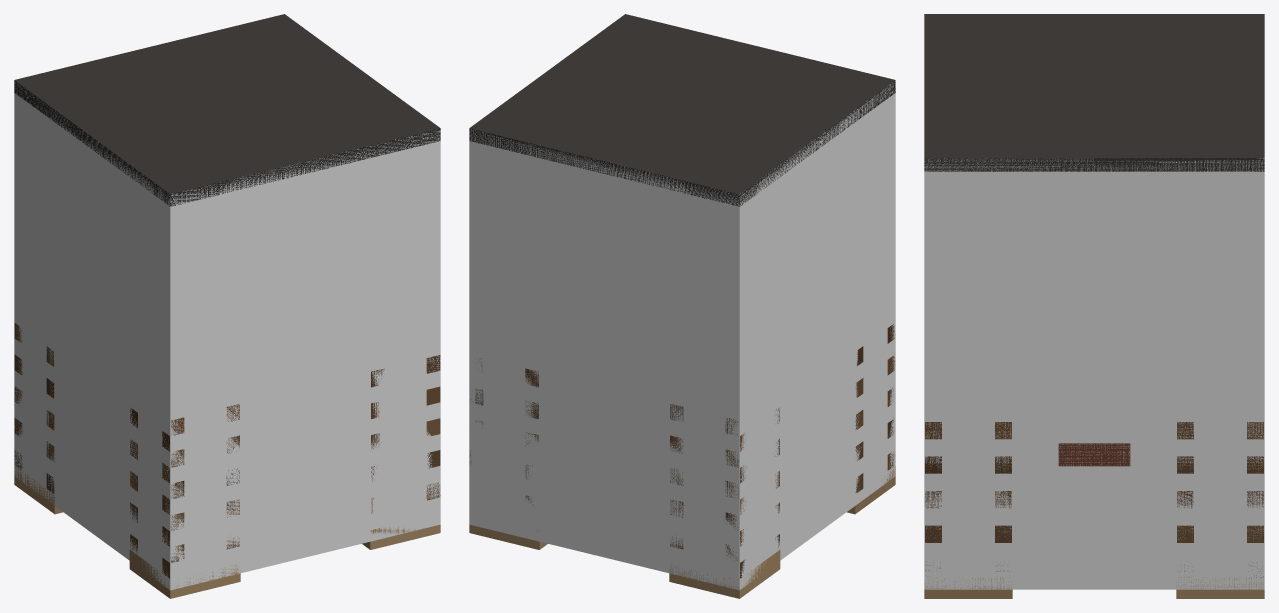
The model's file is ore_bin.glb.
3 renders of one model, left to right at view 1: azimuth 30°, elevation 25°; view 2: azimuth 150°, elevation 25°; view 3: azimuth 270°, elevation 25°, orthographic. The views are drawn at different scales.
Parts seen in each view (by area): view 1: ore_bin-col-col, ore_bin; view 2: ore_bin-col-col, ore_bin; view 3: ore_bin-col-col, ore_bin.
Boxes of the visible parts, bbox=[...] form: ore_bin-col-col: bbox=[14, 82, 440, 590]; ore_bin: bbox=[14, 14, 440, 598]; ore_bin-col-col: bbox=[469, 80, 895, 590]; ore_bin: bbox=[469, 14, 895, 598]; ore_bin-col-col: bbox=[924, 158, 1264, 589]; ore_bin: bbox=[924, 14, 1264, 598].
Bounding box in the file's own units: 10 × 14.3 × 10.
